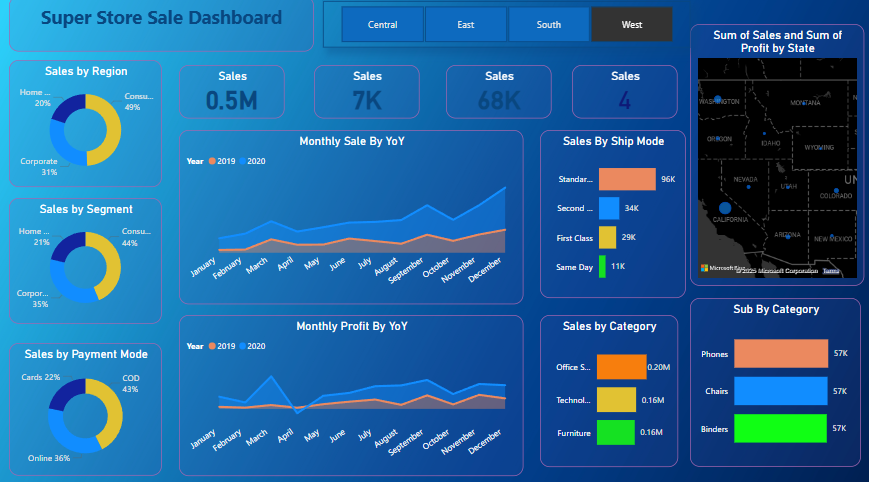

Layout of this report page (visuals, bound fields, positions):
{"tool":"powerbi","page":{"name":"Page 1","canvas":[1280,720],"ordinal":0},"visuals":[{"type":"clusteredBarChart","title":"Sales by Category","fields":{"Category":["SuperStore_Sales_Dataset.Category"],"Y":["Sum(SuperStore_Sales_Dataset.Sales)"]},"box":[792.8,466.7,198.6,218.8],"z":0},{"type":"clusteredBarChart","title":"Sub By Category","fields":{"Category":["SuperStore_Sales_Dataset.Sub-Category"],"Y":["Sum(SuperStore_Sales_Dataset.Sales)"]},"box":[1010.1,442,246.4,243.5],"z":1000},{"type":"clusteredBarChart","title":"Sales By Ship Mode","fields":{"Category":["SuperStore_Sales_Dataset.Ship Mode"],"Y":["Sum(SuperStore_Sales_Dataset.Sales)"]},"box":[792.8,200,210.1,242],"z":2000},{"type":"stackedAreaChart","title":"Monthly Sale By YoY","fields":{"Y":["Sum(SuperStore_Sales_Dataset.Sales)"],"Category":["SuperStore_Sales_Dataset.Order Date.Variation.Date Hierarchy.Month","SuperStore_Sales_Dataset.Order Date.Variation.Date Hierarchy.Day"],"Series":["SuperStore_Sales_Dataset.Order Date.Variation.Date Hierarchy.Year"]},"box":[273.9,200,495.7,250.7],"z":3000},{"type":"stackedAreaChart","title":"Monthly Profit By YoY","fields":{"Category":["SuperStore_Sales_Dataset.Order Date.Variation.Date Hierarchy.Month","SuperStore_Sales_Dataset.Order Date.Variation.Date Hierarchy.Day"],"Series":["SuperStore_Sales_Dataset.Order Date.Variation.Date Hierarchy.Year"],"Y":["Sum(SuperStore_Sales_Dataset.Profit)"]},"box":[273.9,466.7,495.7,231.9],"z":4000},{"type":"map","fields":{"Category":["SuperStore_Sales_Dataset.State"],"Size":["Sum(SuperStore_Sales_Dataset.Sales)"]},"box":[1010.1,47.8,250.7,376.8],"z":5000},{"type":"donutChart","title":"Sales by Segment","fields":{"Category":["SuperStore_Sales_Dataset.Segment"],"Y":["Sum(SuperStore_Sales_Dataset.Sales)"]},"box":[29,298.6,220.3,181.2],"z":6000},{"type":"donutChart","title":"Sales by Payment Mode","fields":{"Category":["SuperStore_Sales_Dataset.Payment Mode"],"Y":["Sum(SuperStore_Sales_Dataset.Sales)"]},"box":[29,507.2,220.3,191.3],"z":7000},{"type":"slicer","title":"Region","fields":{"Values":["SuperStore_Sales_Dataset.Region"]},"box":[481.2,14.5,529,66.7],"z":8000},{"type":"textbox","box":[29,7.2,439.1,79.7],"z":9000},{"type":"card","title":"Sales","fields":{"Values":["Sum(SuperStore_Sales_Dataset.Sales)"]},"box":[273.9,107.2,152.2,76.8],"z":10000},{"type":"card","title":"Sales","fields":{"Values":["Sum(SuperStore_Sales_Dataset.Quantity)"]},"box":[468.1,107.2,152.2,76.8],"z":11000},{"type":"card","title":"Sales","fields":{"Values":["Sum(SuperStore_Sales_Dataset.Profit)"]},"box":[658,107.2,152.2,76.8],"z":12000},{"type":"card","title":"Sales","fields":{"Values":["Avg(SuperStore_Sales_Dataset.AvgDelivery)"]},"box":[839.1,107.2,152.2,76.8],"z":13000},{"type":"donutChart","title":"Sales by Region","fields":{"Y":["CountNonNull(SuperStore_Sales_Dataset.Region)"],"Category":["SuperStore_Sales_Dataset.Segment"]},"box":[29,100,220.3,182.6],"z":14000}]}

Visuals, with their boxes in screenshot pixels (x1, y1, x2, y2), scaled from the page's 1280x720 canvas onto the 869x482 screenshot:
"Sales by Category" clusteredBarChart: bbox=(538, 312, 673, 459)
"Sub By Category" clusteredBarChart: bbox=(686, 296, 853, 459)
"Sales By Ship Mode" clusteredBarChart: bbox=(538, 134, 681, 296)
"Monthly Sale By YoY" stackedAreaChart: bbox=(186, 134, 522, 302)
"Monthly Profit By YoY" stackedAreaChart: bbox=(186, 312, 522, 468)
map - SuperStore_Sales_Dataset.State x Sum(SuperStore_Sales_Dataset.Sales): bbox=(686, 32, 856, 284)
"Sales by Segment" donutChart: bbox=(20, 200, 169, 321)
"Sales by Payment Mode" donutChart: bbox=(20, 340, 169, 468)
"Region" slicer: bbox=(327, 10, 686, 54)
textbox: bbox=(20, 5, 318, 58)
"Sales" card: bbox=(186, 72, 289, 123)
"Sales" card: bbox=(318, 72, 421, 123)
"Sales" card: bbox=(447, 72, 550, 123)
"Sales" card: bbox=(570, 72, 673, 123)
"Sales by Region" donutChart: bbox=(20, 67, 169, 189)
